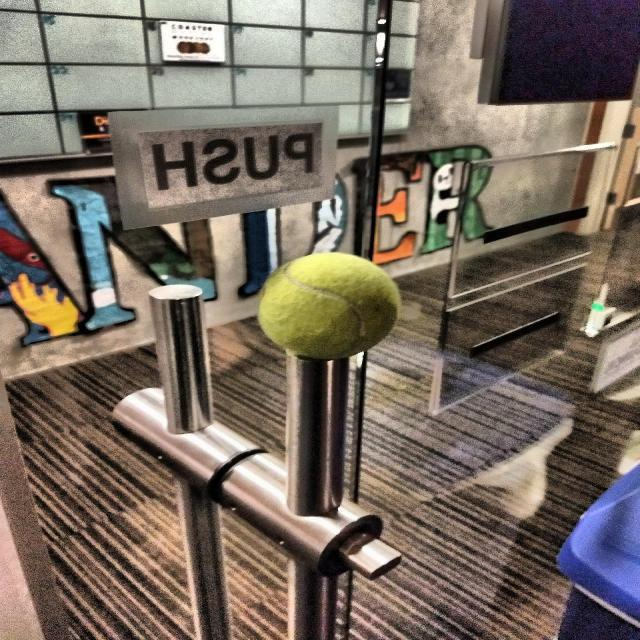tennis-ball: (258, 251, 406, 361)
